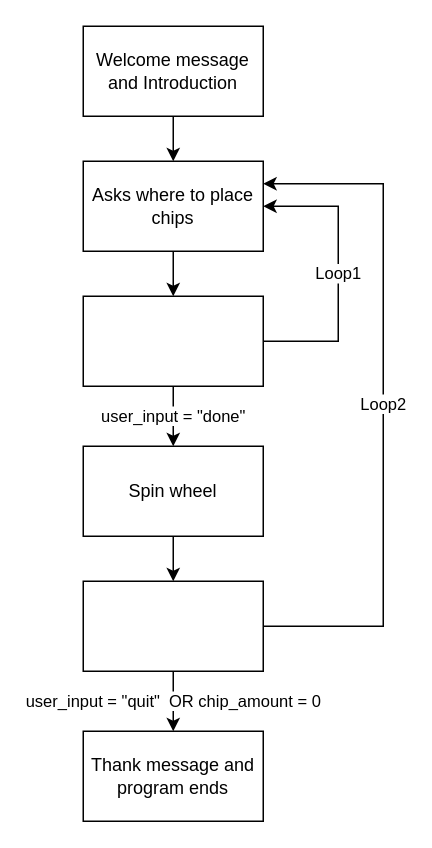
This 432x848 diagram has some shape labels left out. Here are the shapes that lost their labels. From the top down, the centre of each, then its label:
At point 172,340: "Asks number of chips to add or remove".
At point 172,625: "Result message".
